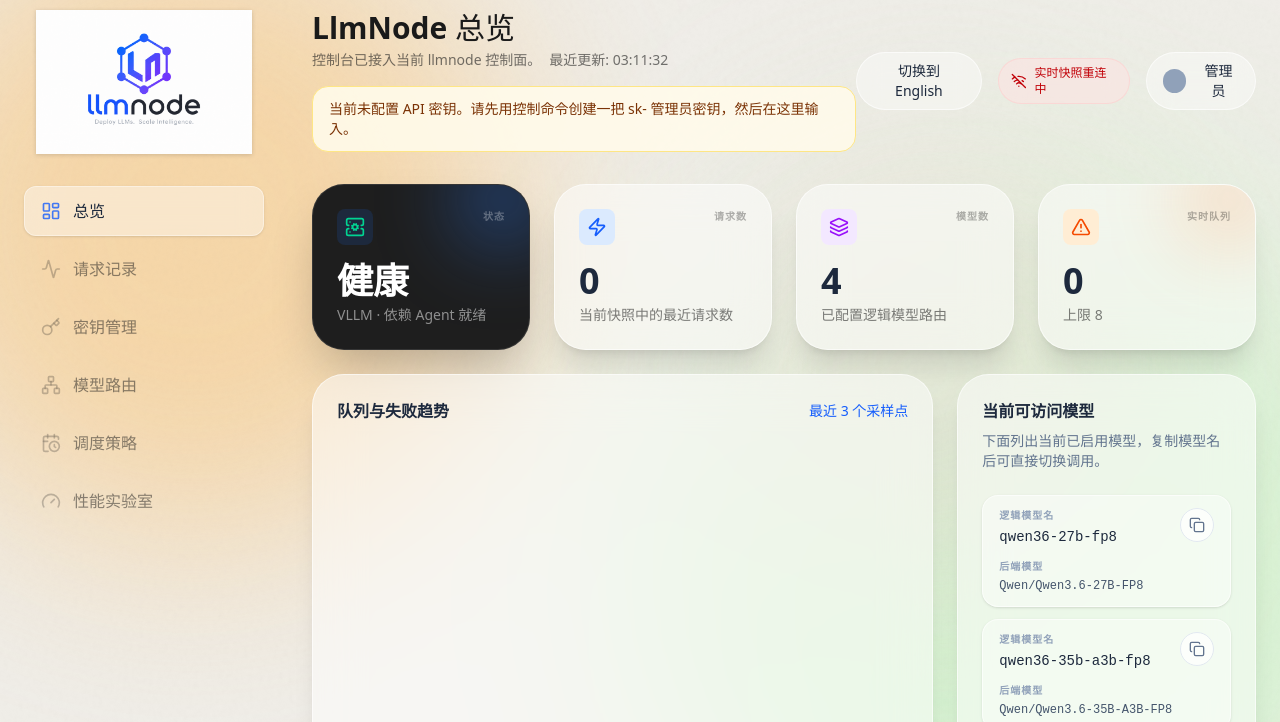
Test: Console views › renders one trend line per backend when grouped by backend
The width and height of the screenshot is (1280, 722).
Expected: the text "LlmNode" is shown, [312,7,447,48]
Click the button "请求记录" at (144, 269), box [24,244,264,294]
(page scrolled)
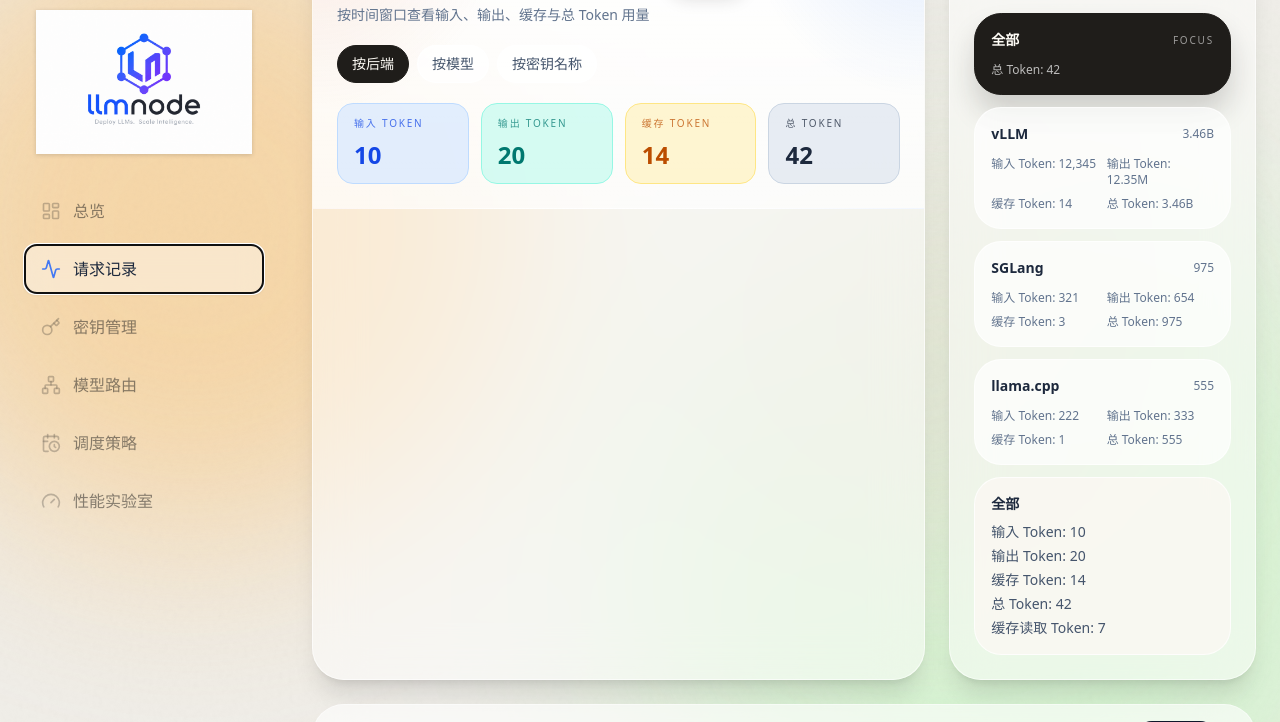
Now the text "vLLM" is shown, box [991,124,1028,144]
Now the text "SGLang" is shown, box [991,258,1044,278]
Now the text "llama.cpp" is shown, box [991,376,1059,396]
